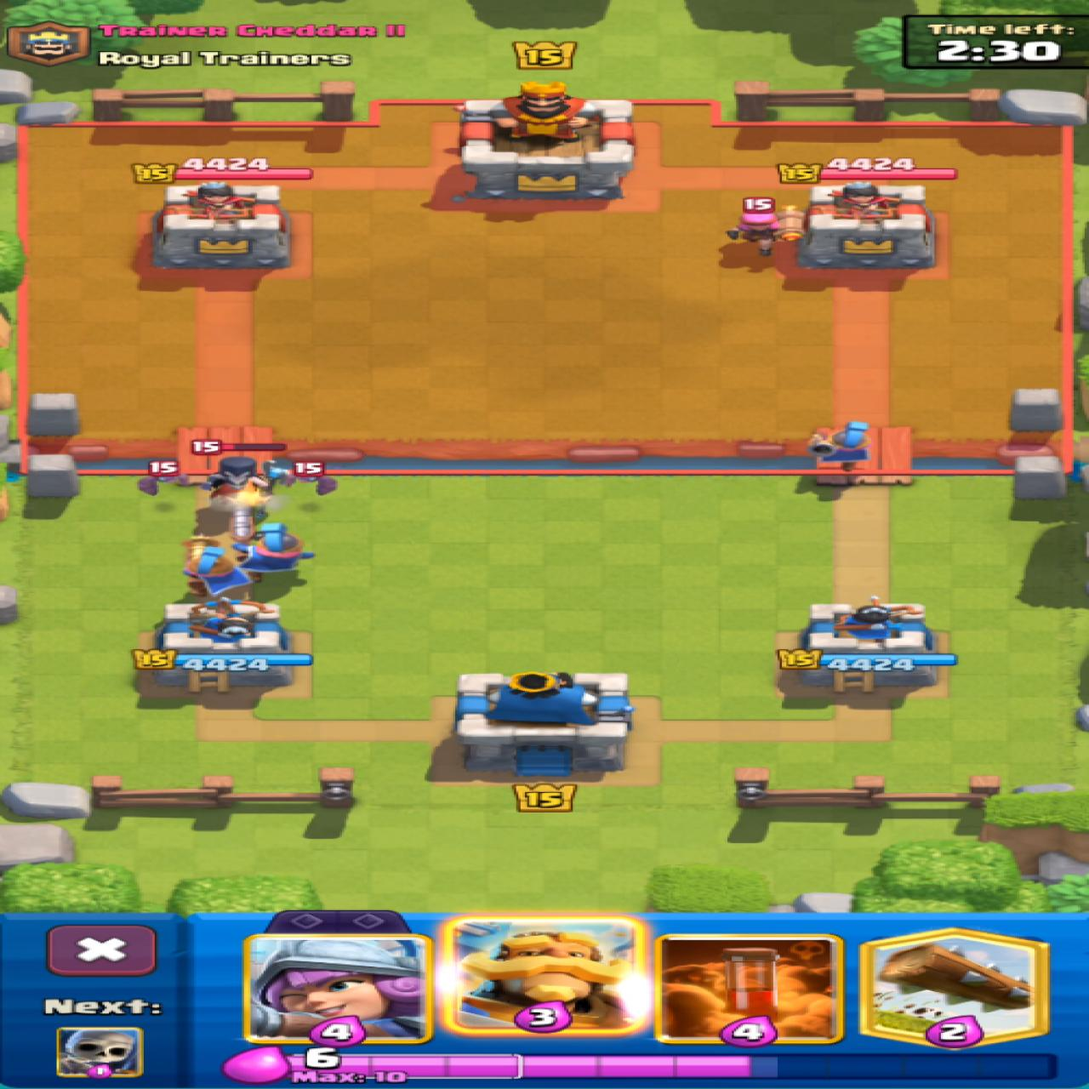Enemy-Bat: (277, 462, 335, 494), (137, 461, 189, 495), (270, 459, 285, 475)
Enemy-Firecracker: (727, 209, 802, 255)
Enemy-KingTower: (457, 83, 634, 200)
Enemy-NightWitch: (203, 456, 292, 498)
Enemy-PrincessTower: (799, 182, 932, 268), (155, 182, 287, 266)
